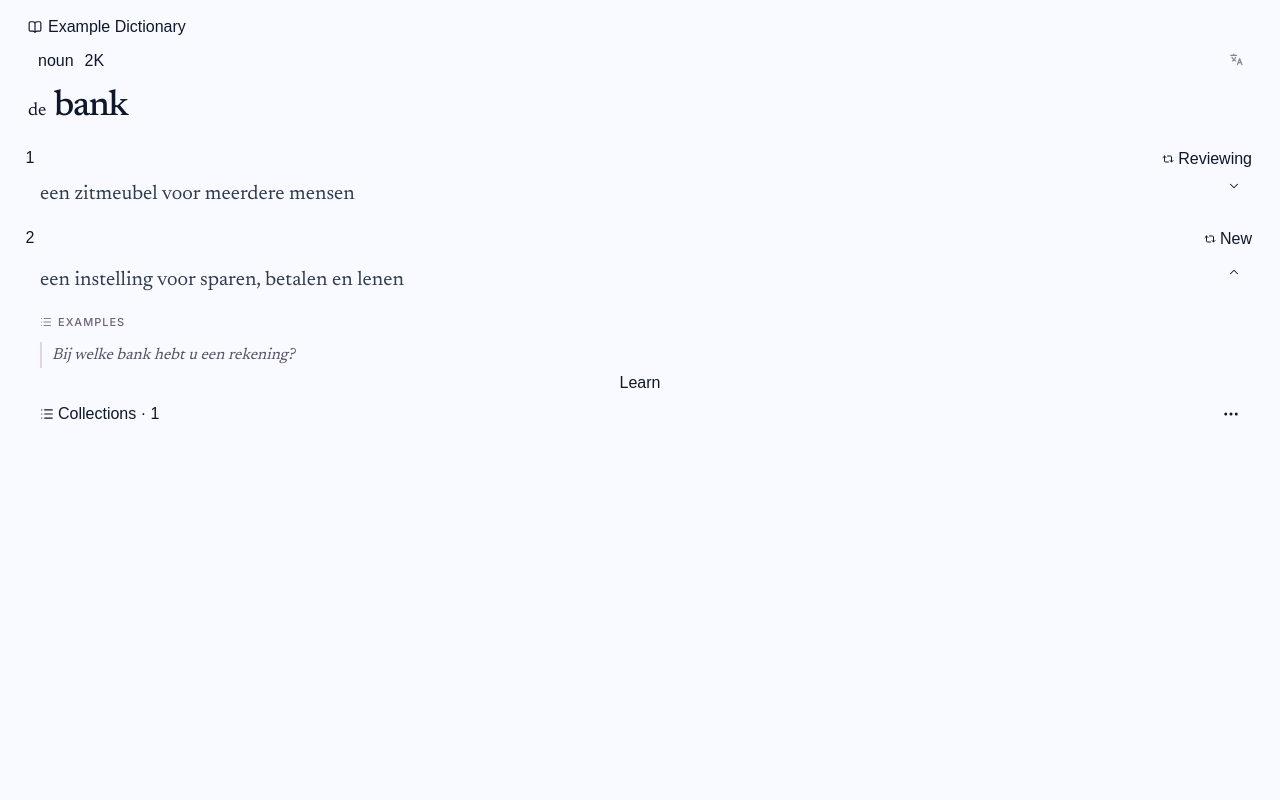
Test case: LibrarySenseCardV2Session › an accepted collection removal followed by failed read is not reported as saved; retry only reads
Expected: the element with test id "library-sense-card-group" is shown, [0, 0, 1279, 456]
Click the button "Collections · 1". click: [100, 414]
box: [40, 400, 159, 428]
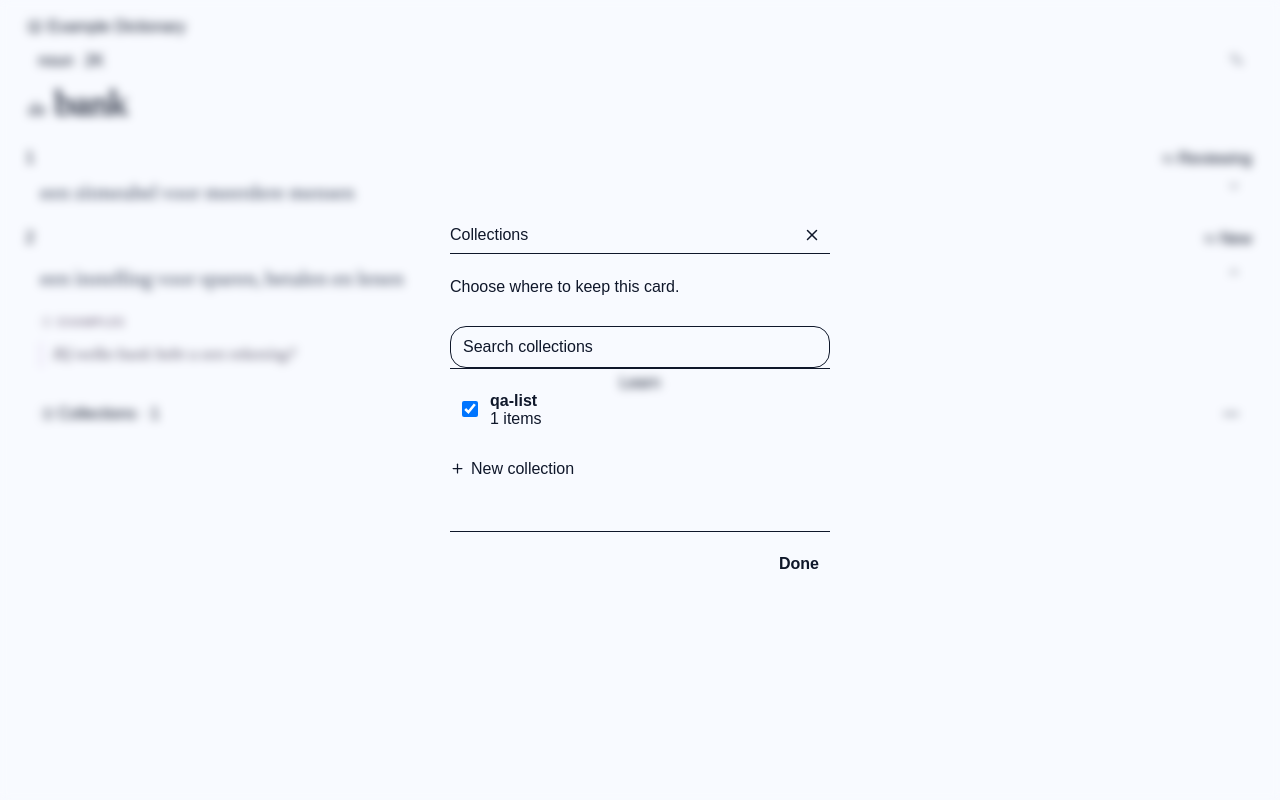
Expected: the checkbox labelled "qa-list 1 items" is checked
Click the checkbox labelled "qa-list 1 items". click: [470, 408]
box: [462, 400, 478, 416]
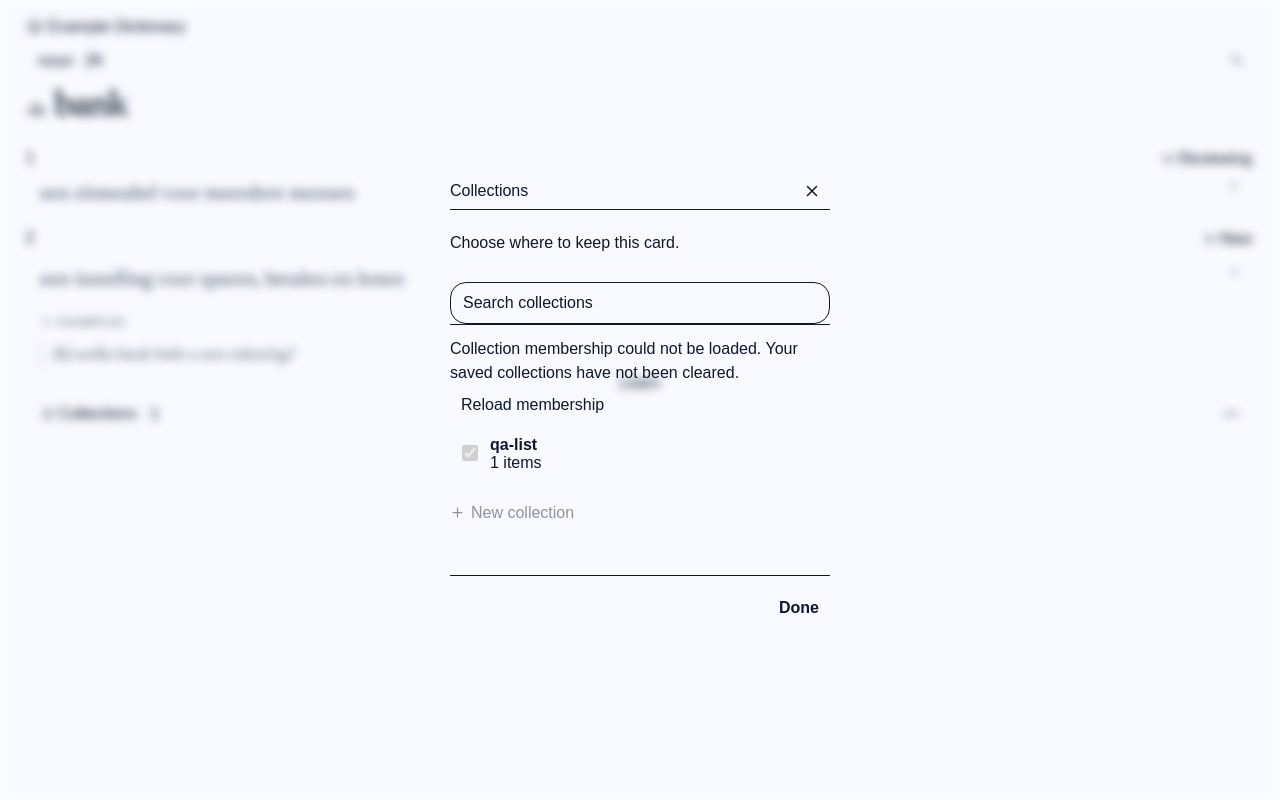
Expected: the checkbox labelled "qa-list 1 items" is checked, [462, 444, 478, 460]
Expected: the message is shown, [450, 336, 830, 384]
Expected: the message shows "Collection membership could not be loaded", [450, 340, 798, 380]
Click the button "Reload membership". click: [533, 404]
box: [450, 384, 615, 424]
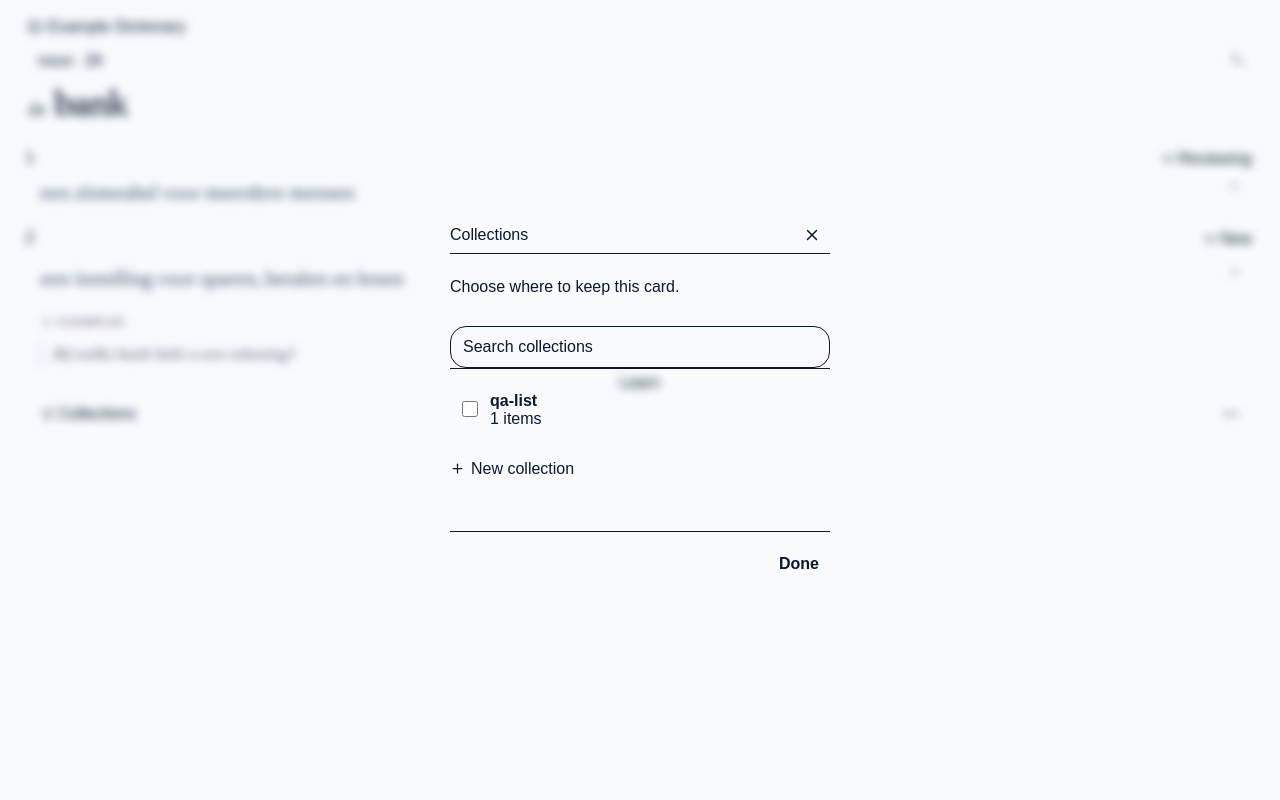
Expected: the checkbox labelled "qa-list 1 items" is not checked, [462, 400, 478, 416]
Expected: the checkbox labelled "qa-list 1 items" is enabled, [462, 400, 478, 416]
